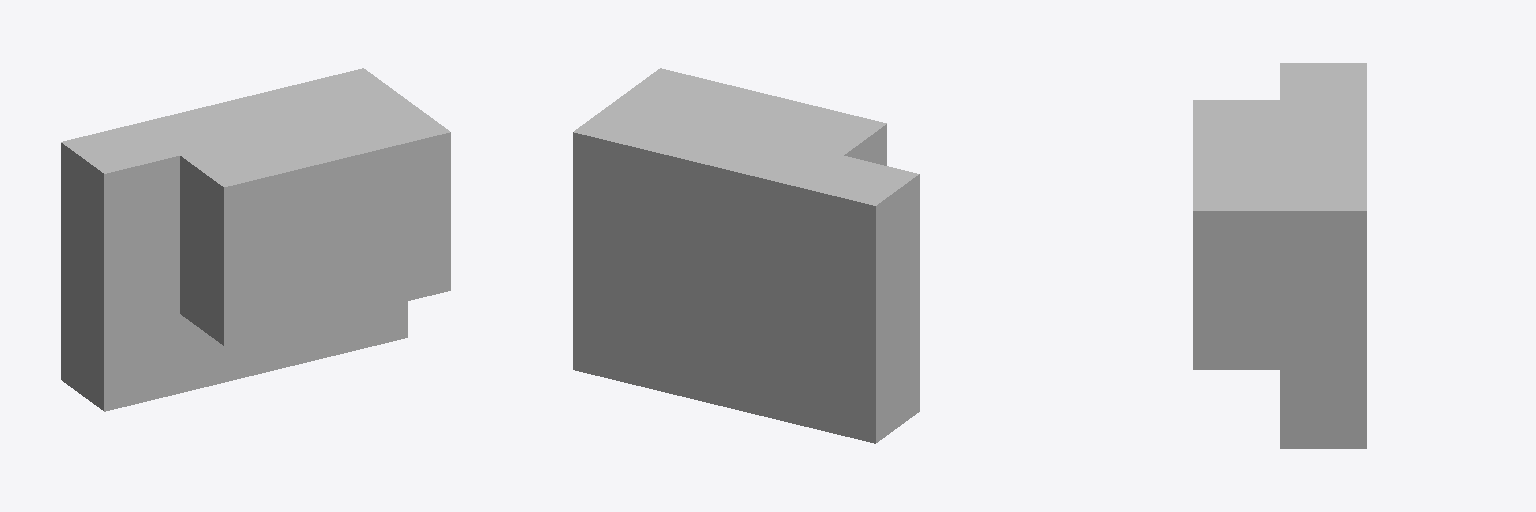
Rendered from E2-Rep06-p03.obj.
3 renders of one model, left to right at view 1: azimuth 30°, elevation 25°; view 2: azimuth 150°, elevation 25°; view 3: azimuth 270°, elevation 25°, orthographic.
Parts seen in each view (by area): view 1: mesh8, mesh3, mesh4, mesh0, mesh7; view 2: mesh2, mesh4, mesh0, mesh7; view 3: mesh5, mesh4.
Boxes of the visible parts, x1=… form: mesh8: x1=224, y1=132, x2=450, y2=345; mesh3: x1=104, y1=156, x2=407, y2=411; mesh4: x1=61, y1=68, x2=449, y2=186; mesh0: x1=61, y1=143, x2=103, y2=410; mesh7: x1=180, y1=156, x2=223, y2=345; mesh2: x1=573, y1=132, x2=875, y2=443; mesh4: x1=574, y1=68, x2=918, y2=205; mesh0: x1=876, y1=174, x2=919, y2=442; mesh7: x1=844, y1=124, x2=886, y2=165; mesh5: x1=1193, y1=211, x2=1366, y2=448; mesh4: x1=1193, y1=63, x2=1366, y2=210.
Size of the model in its own units: 0.02 by 0.015 by 0.01.